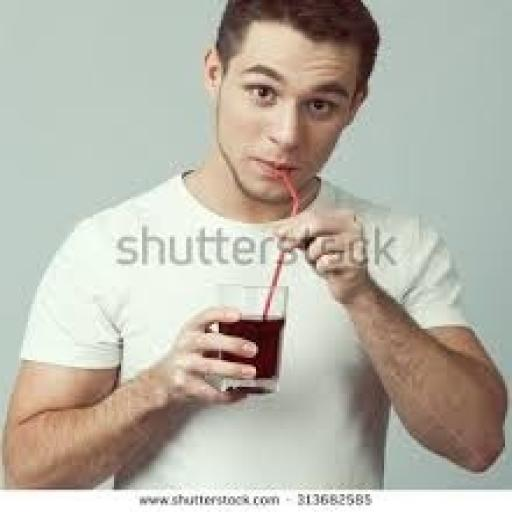drinking: (204, 282, 288, 394)
